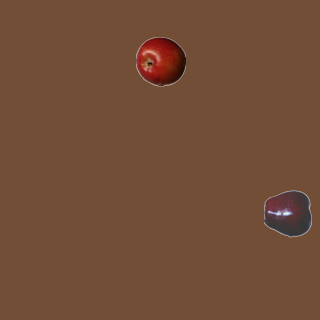Apple Braeburn: (135, 36, 185, 86)
Apple Red Delicious: (263, 188, 313, 238)
